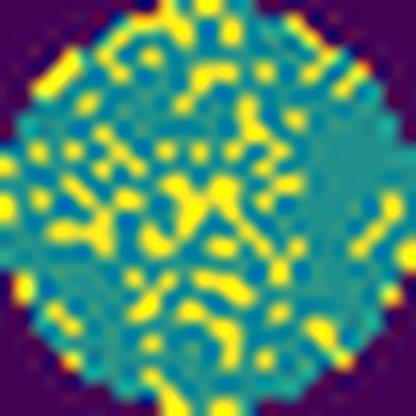Center: (136, 168, 307, 295)
